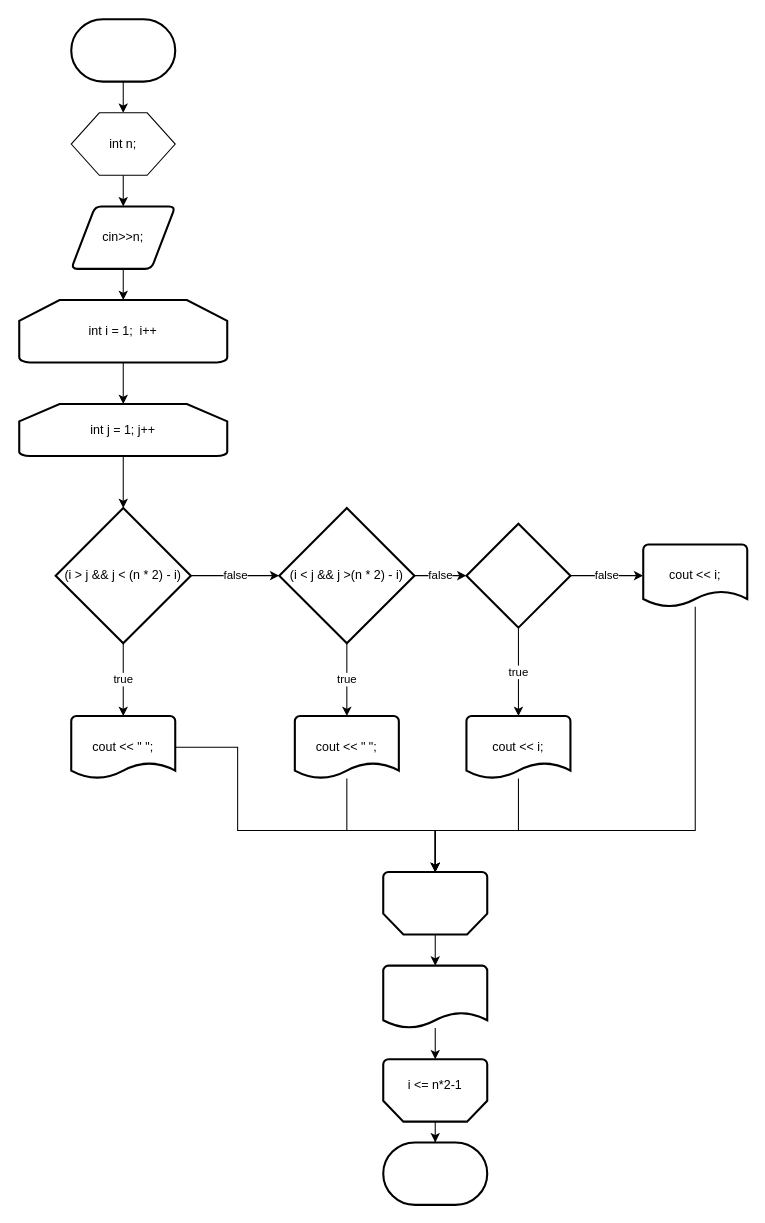
Some shapes in this 765 by 1223 pixel diagram are drawn without their labels. The shapes that lost their labels are listed below. From the top down, each one's centre as x and y in pixels, then its label:
[123,50]: start
[518,575]: i < n
[435,902]: j <= n*2-1
[435,996]: cout << "\n";
[435,1173]: end
